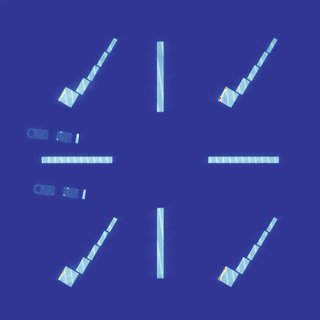overheated: (218, 268, 227, 281), (58, 89, 66, 101), (59, 269, 64, 280), (218, 95, 222, 100), (224, 86, 227, 91)
